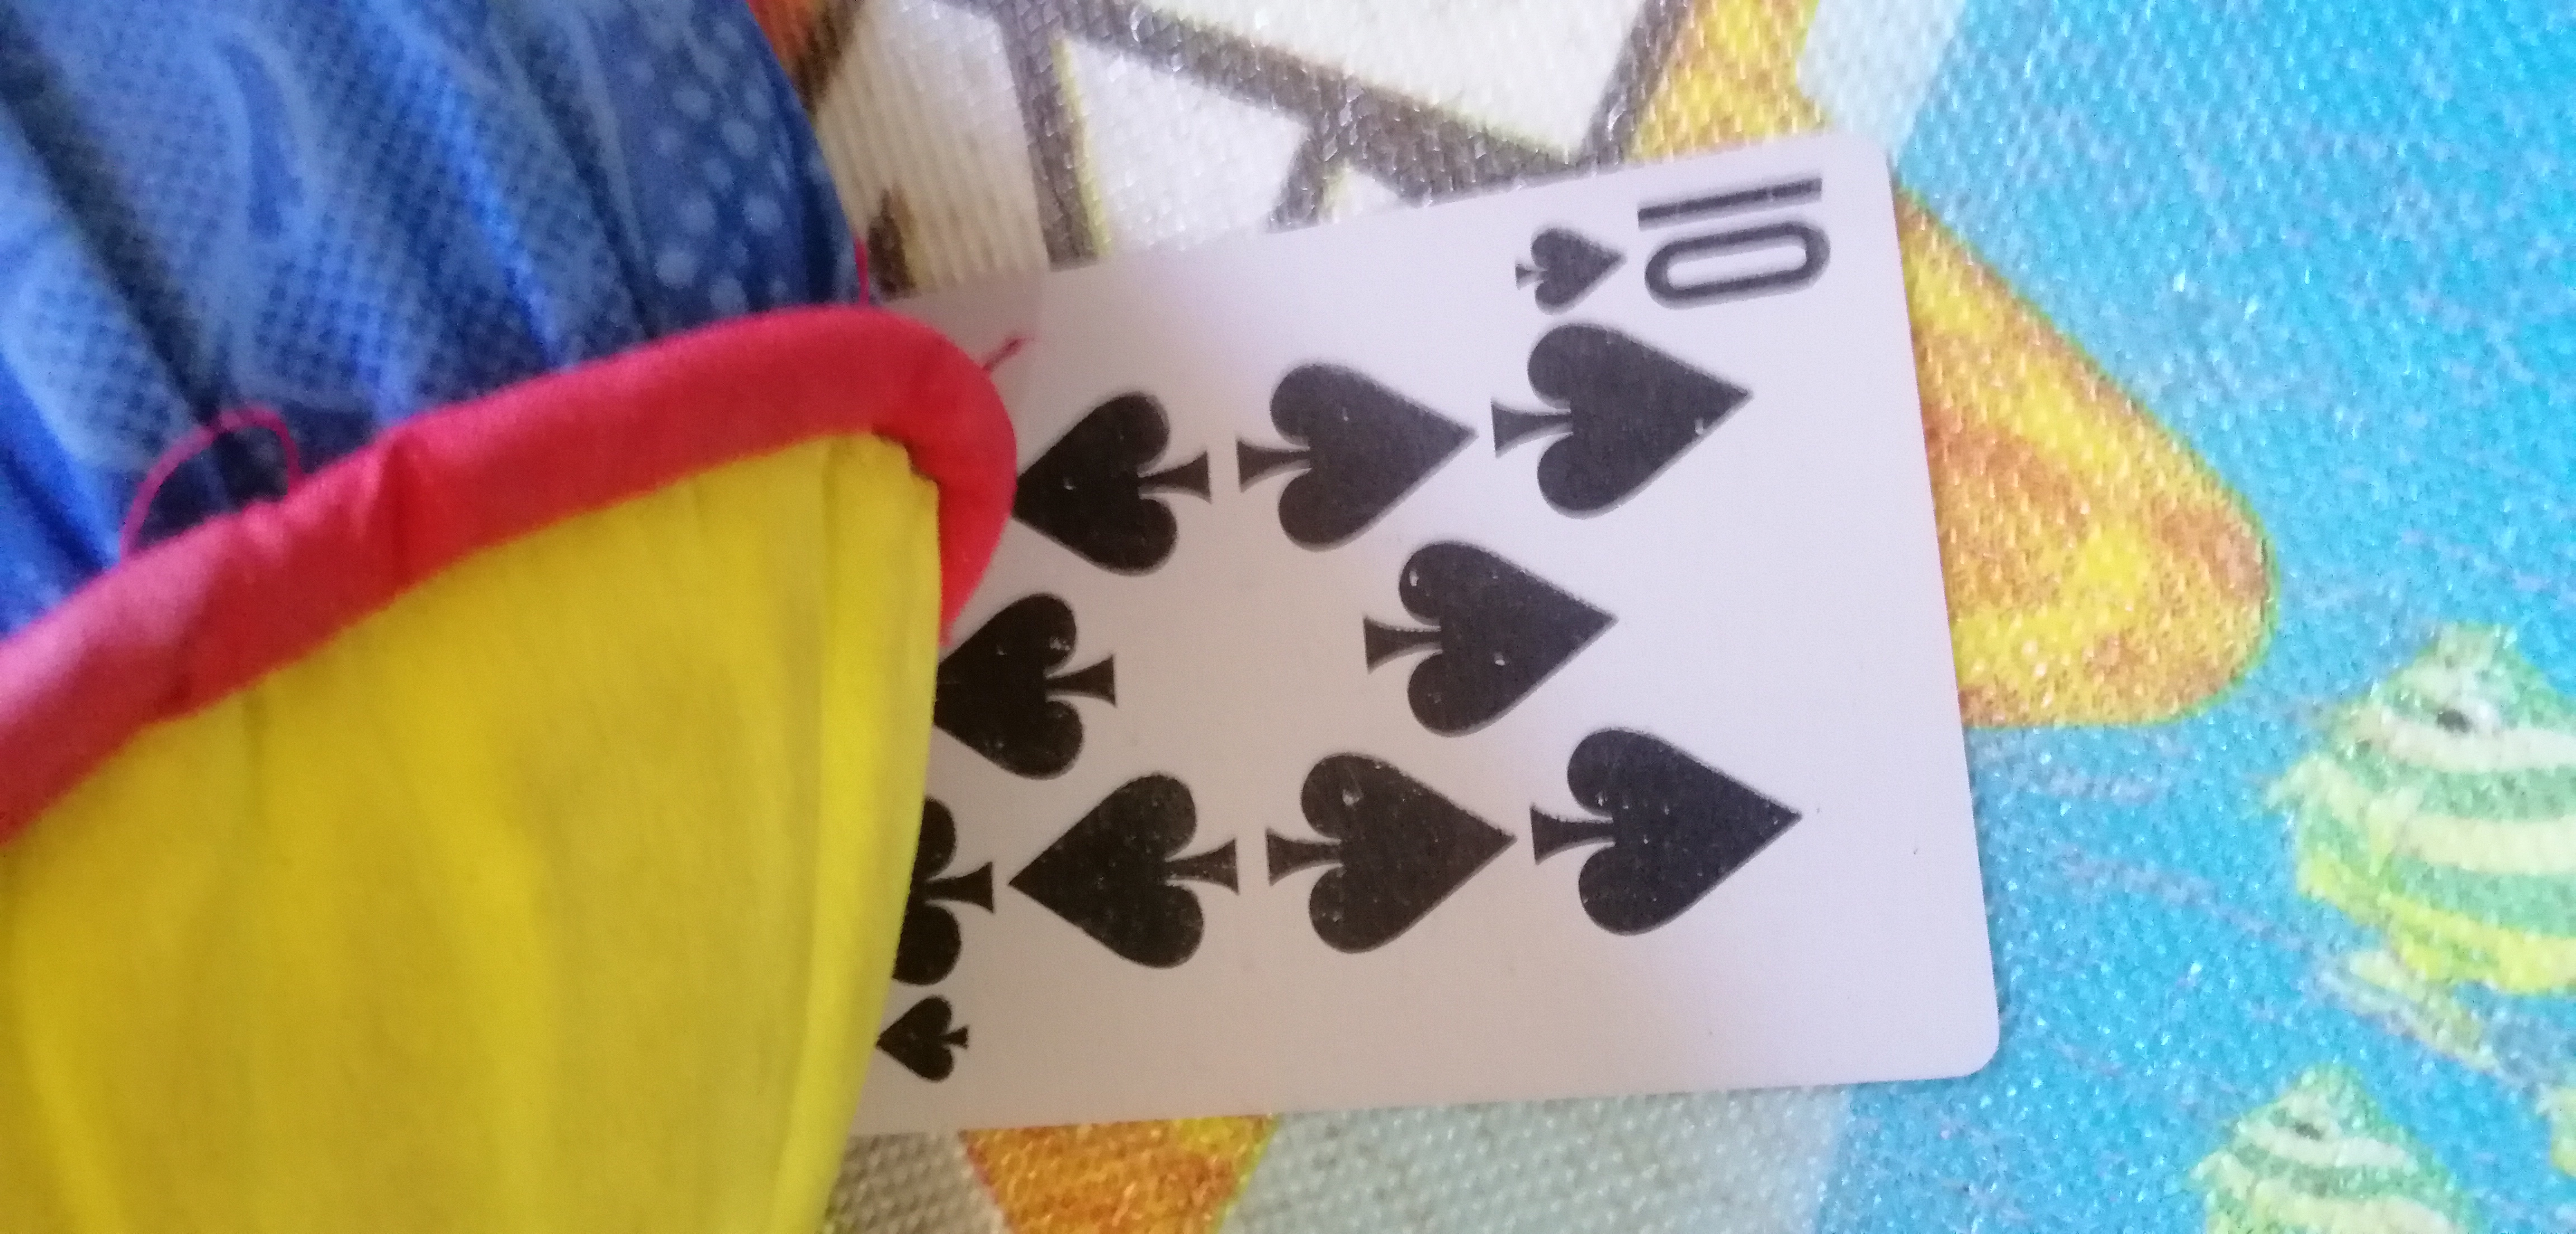ten: (756, 158, 2037, 1088)
